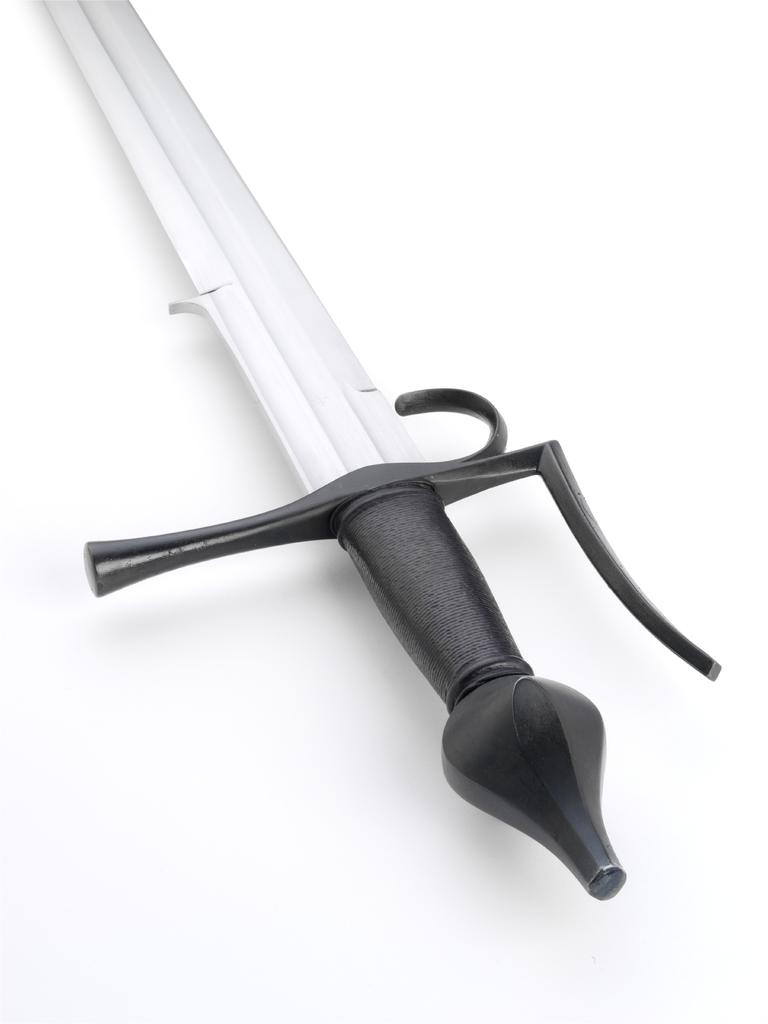Sword: (44, 0, 722, 899)
